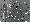person: (5, 3, 11, 20)
